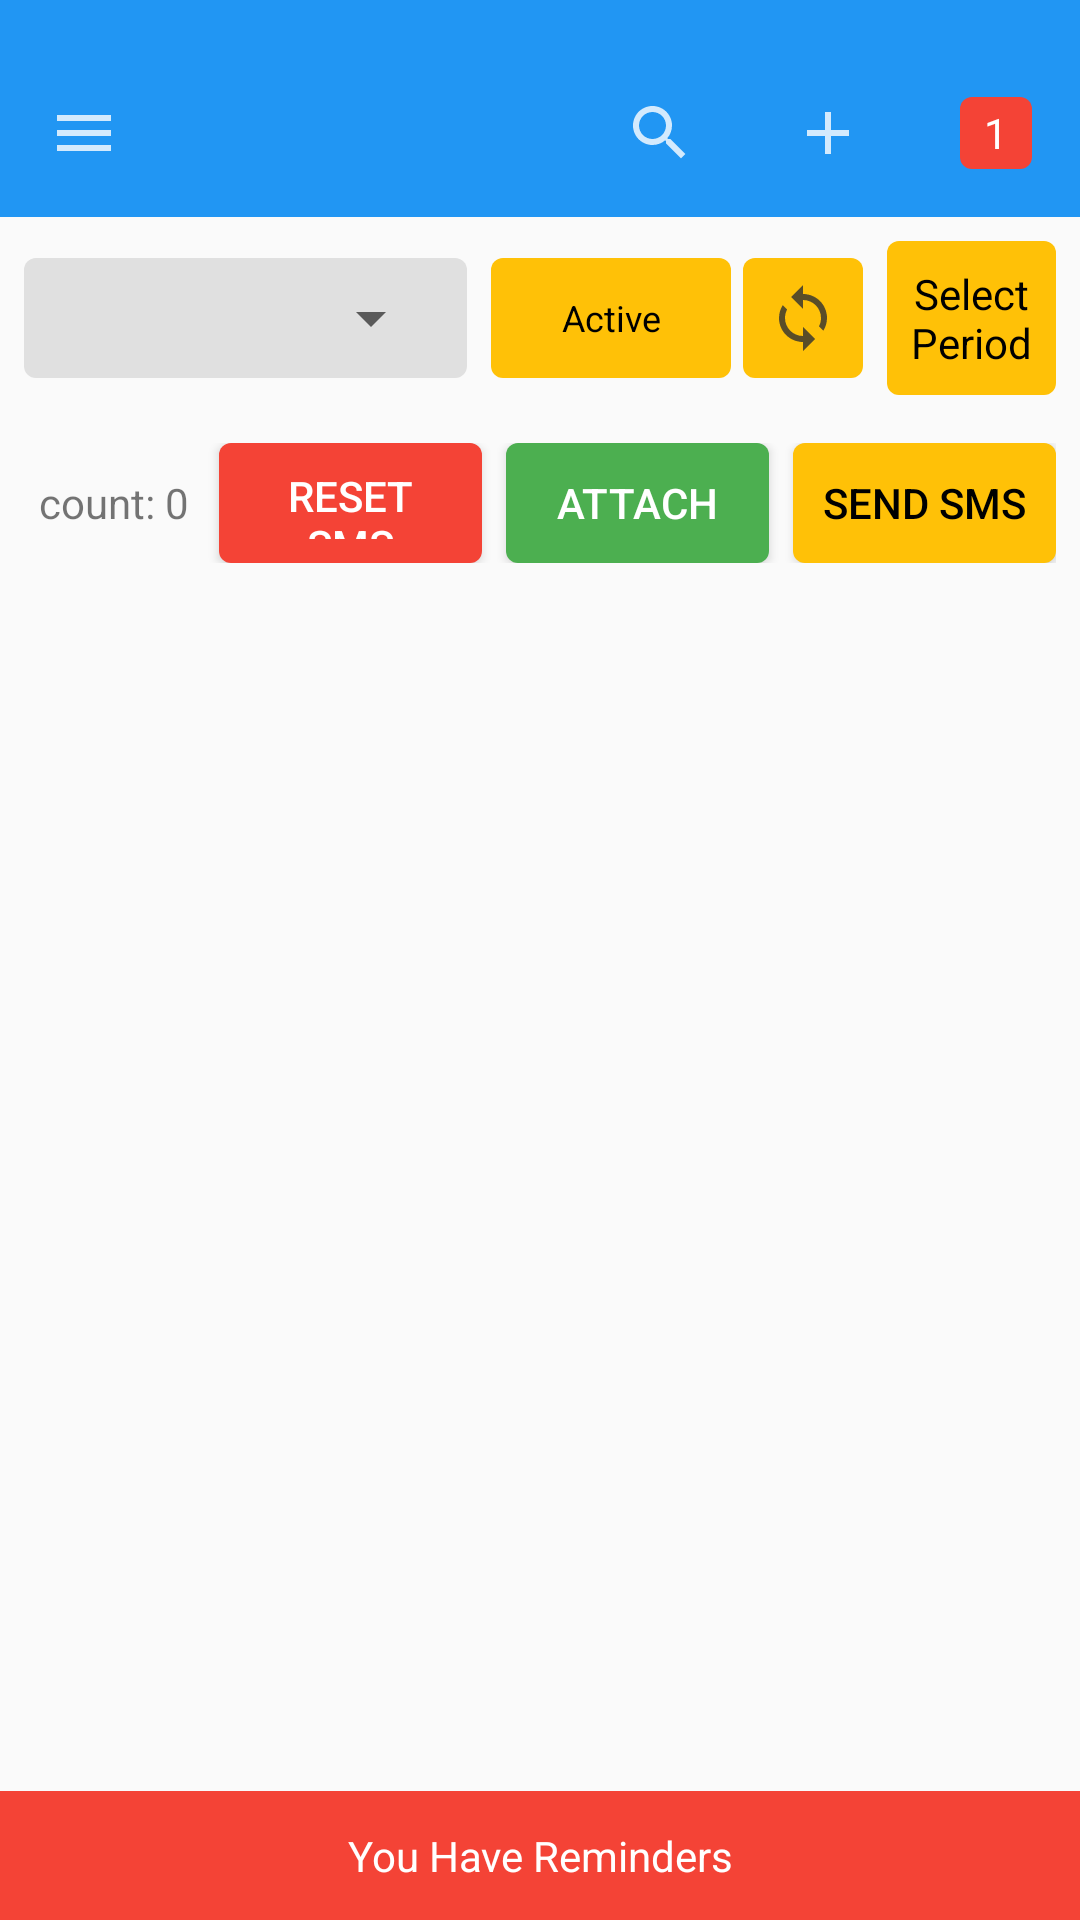

Named icons in this screenshot (1080*1920) and their bounding boxes, (x1, y1, x2, y2):
add: (807, 112, 849, 154)
burger: (57, 115, 111, 151)
search: (633, 106, 685, 158)
sync data: (743, 258, 863, 378)
